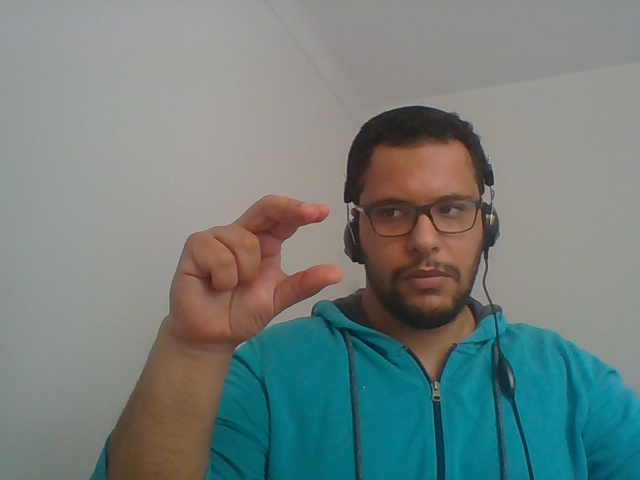no: (139, 175, 349, 370)
